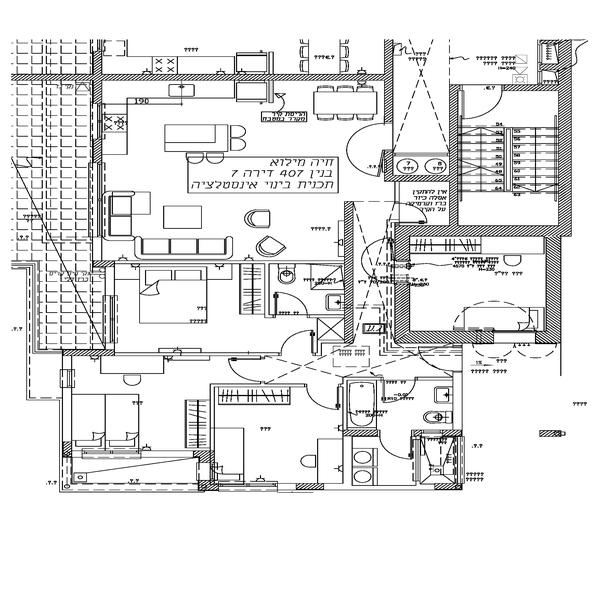door: (457, 82, 502, 122), (302, 379, 348, 417), (226, 349, 272, 386), (378, 423, 416, 467), (280, 324, 319, 358), (273, 277, 309, 310), (386, 198, 429, 225), (381, 377, 424, 404)
room: (87, 66, 358, 270), (207, 371, 464, 490), (85, 255, 355, 354), (47, 350, 219, 488), (450, 74, 575, 240), (394, 225, 567, 344)
wall: (14, 68, 395, 85), (551, 38, 575, 245), (389, 224, 574, 241), (444, 74, 463, 234), (341, 203, 357, 352), (393, 324, 495, 347), (390, 283, 414, 347), (380, 32, 397, 119), (386, 170, 458, 190), (546, 238, 559, 343), (385, 152, 398, 184), (91, 134, 104, 162)
window: (84, 444, 144, 462), (89, 163, 104, 234), (100, 292, 118, 345), (86, 101, 107, 140)
